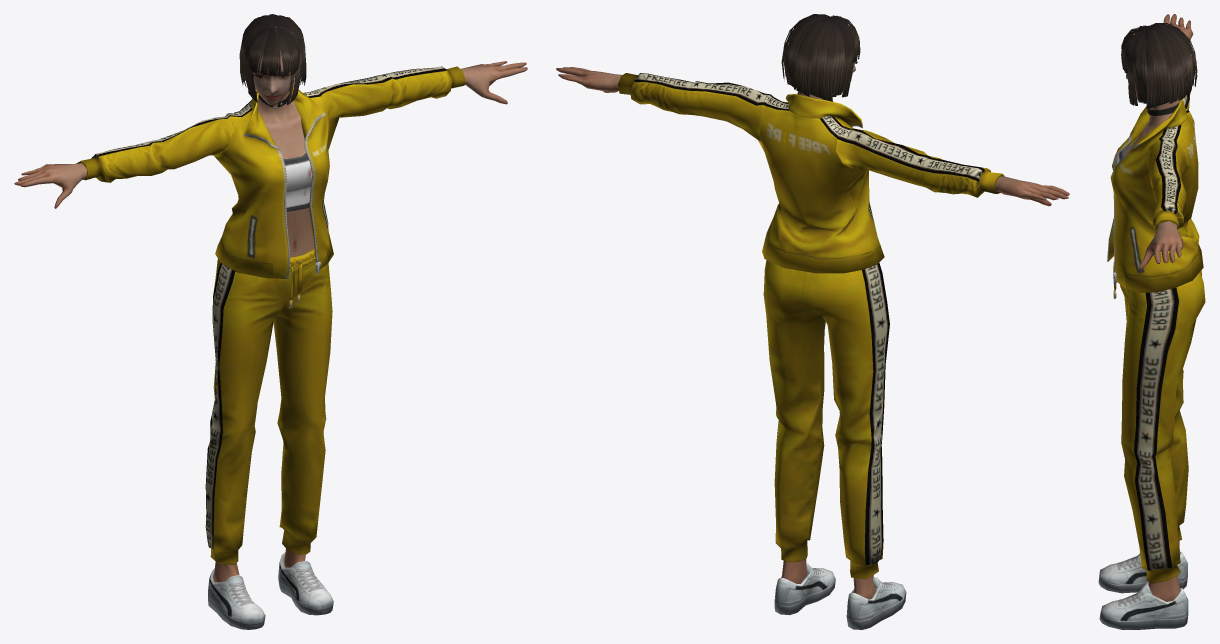
Rendered from kelly - Copy.obj.
3 views of the same model, side by side, from view 1: azimuth 30°, elevation 25°; view 2: azimuth 150°, elevation 25°; view 3: azimuth 270°, elevation 25° (orthographic).
Visible parts, largest first — view 1: kelly.001_kellymesh; view 2: kelly.001_kellymesh; view 3: kelly.001_kellymesh.
Part boxes in pixels (x1,y1,x2,y2): kelly.001_kellymesh: (14, 14, 527, 629); kelly.001_kellymesh: (556, 14, 1069, 629); kelly.001_kellymesh: (1098, 14, 1205, 629).
Size of the model in its own units: 2.98 by 3.28 by 0.5427.
1 material, 1 textured.
